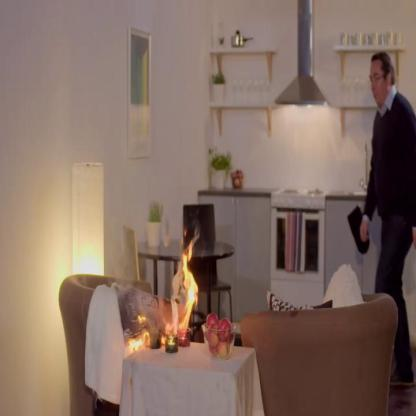fire: (181, 239, 200, 331)
